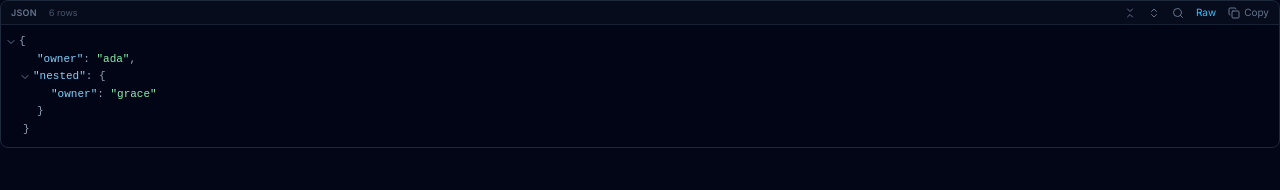
ValueView: find › counts the matches and marks them
The width and height of the screenshot is (1280, 190).
Click the button titled "Find in this value": (1178,12) [1172, 6, 1184, 18]
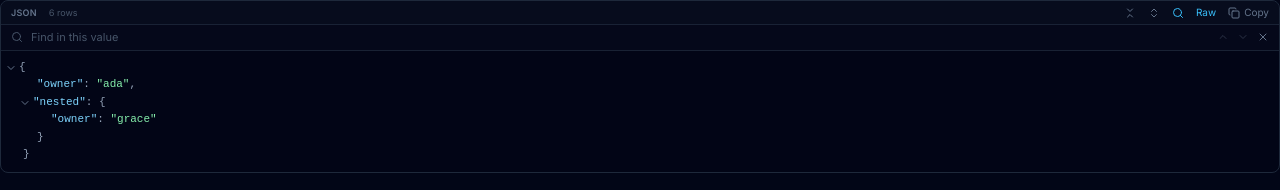
In the field labelled "Find in this value": (616,37) [31, 29, 1201, 46], type "owner"
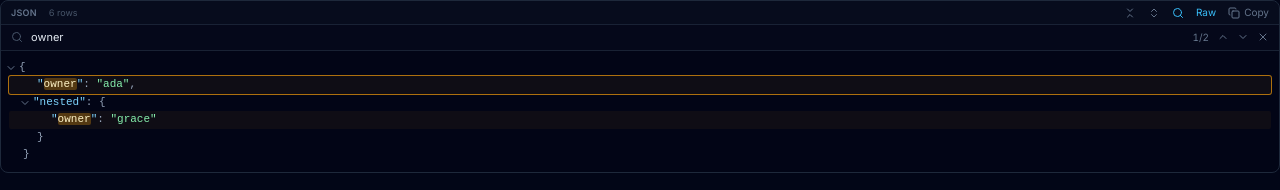
Result: the text "1/2" is shown at [1192, 30, 1209, 45]
